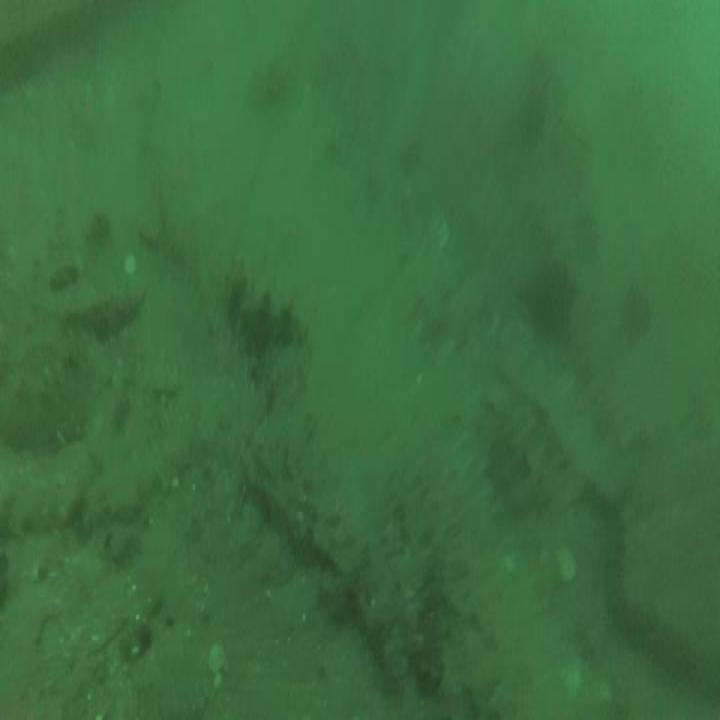echinus: (523, 252, 573, 336), (623, 286, 649, 342)
holothurian: (228, 256, 304, 352), (0, 377, 87, 448), (2, 468, 85, 535)
